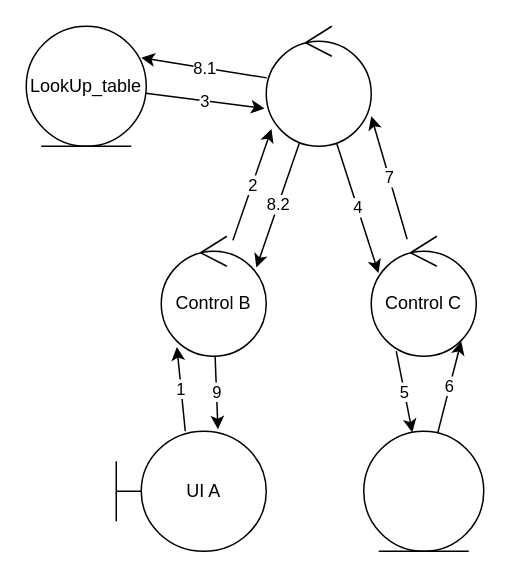
This 510x578 diagram has some shape labels left out. The shapes that lost their labels are listed below. From the top down, each one's centre as x and y in pixels, then its label:
[318,85]: Control A
[423,490]: Data A
